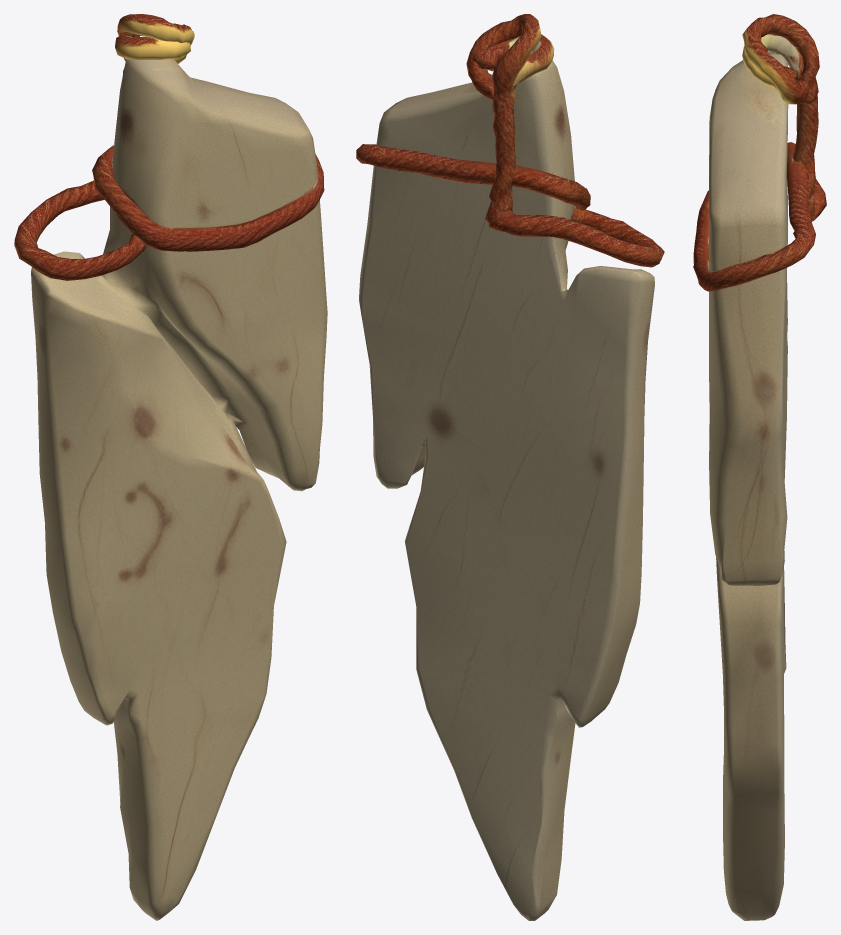
File: heartwood-splinter_refine.glb
3 renders of one model, left to right at view 1: azimuth 30°, elevation 25°; view 2: azimuth 150°, elevation 25°; view 3: azimuth 270°, elevation 25°, orthographic.
Size of the model in its own units: 0.3281 by 0.9502 by 0.1274.
1 material, 1 textured.
